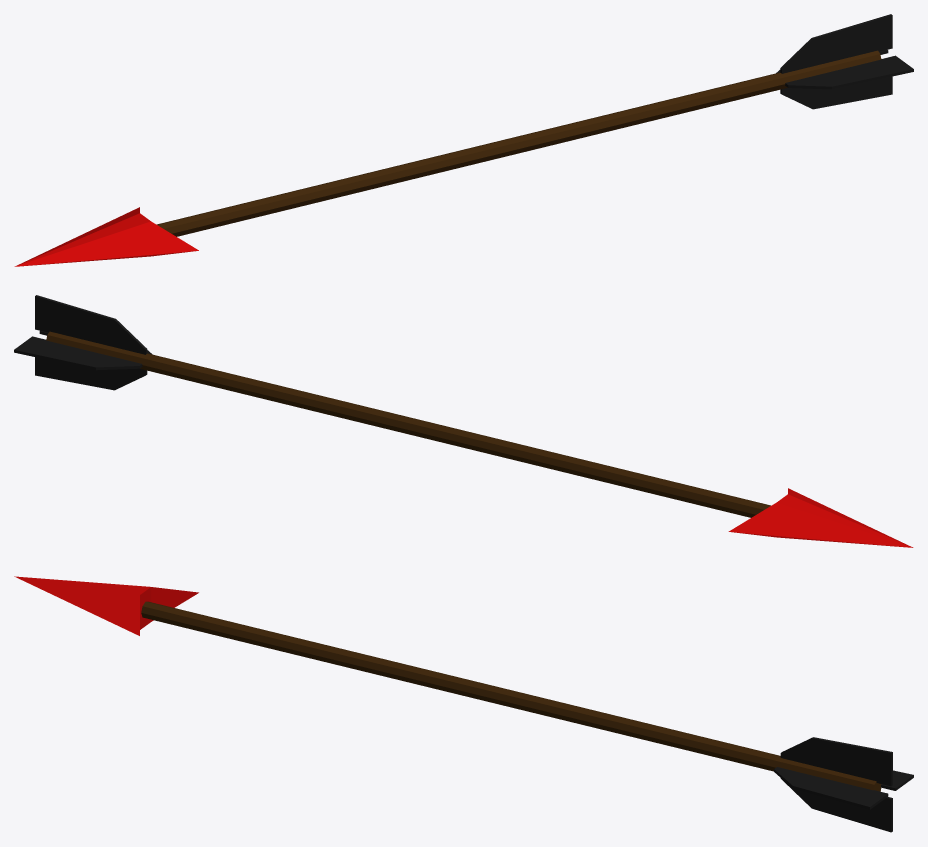
Rendered from fire_arrow.fbx.
The picture shows the model from 3 angles, top to bottom: view 1: azimuth 30°, elevation 25°; view 2: azimuth 150°, elevation 25°; view 3: azimuth 330°, elevation 25°; orthographic projection.
Parts seen in each view (by area): view 1: Fire_Arrow; view 2: Fire_Arrow; view 3: Fire_Arrow.
Part boxes in pixels (box(x1,y1,x2,y2)): Fire_Arrow: box(14, 14, 913, 266); Fire_Arrow: box(14, 295, 913, 547); Fire_Arrow: box(14, 576, 913, 832).
Bounding box in the file's own units: 0.8586 × 0.0742 × 0.1011.
